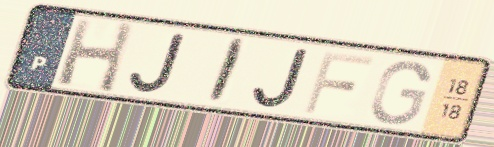F: (299, 49, 377, 116)
G: (367, 57, 433, 127)
H: (53, 15, 138, 96)
I: (203, 36, 251, 107)
J: (249, 45, 312, 110), (127, 31, 190, 96)
